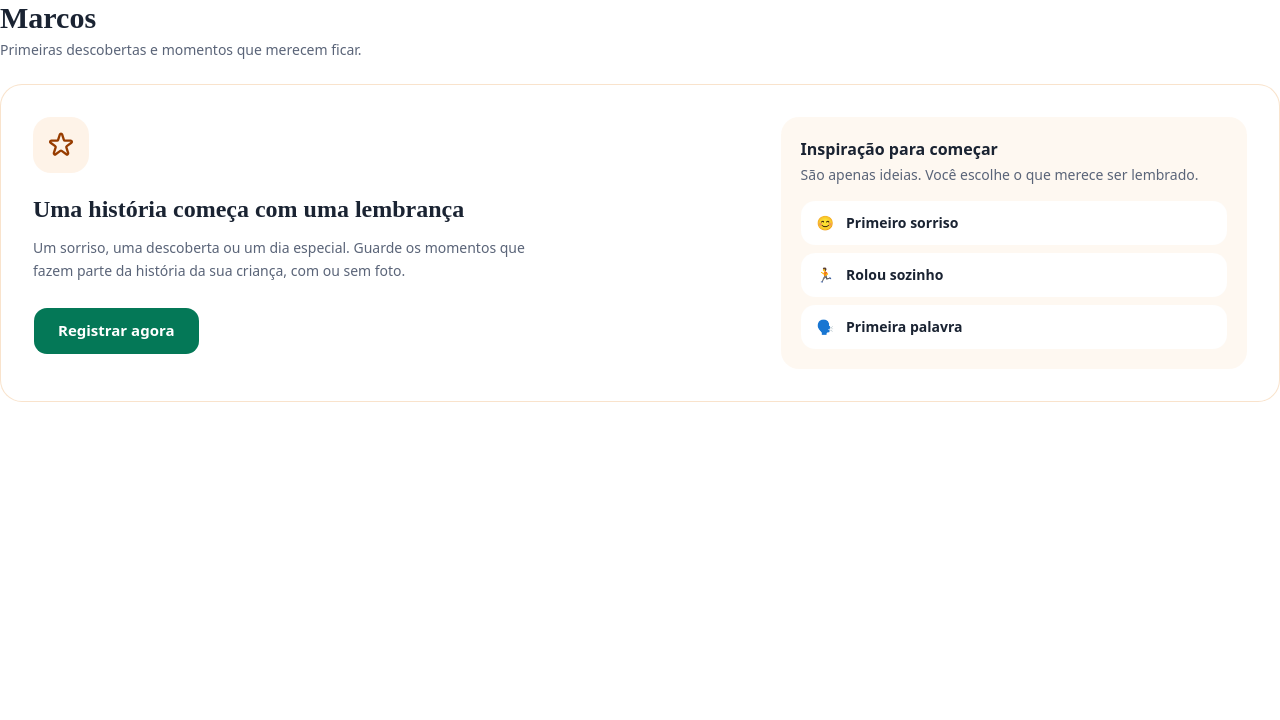
shows the first-memory invitation for an empty selected child
expect the heading "Uma história começa com uma lembrança" is shown: met, box [33, 196, 464, 222]
Click the button "Registrar agora": click(116, 330) [33, 306, 200, 354]
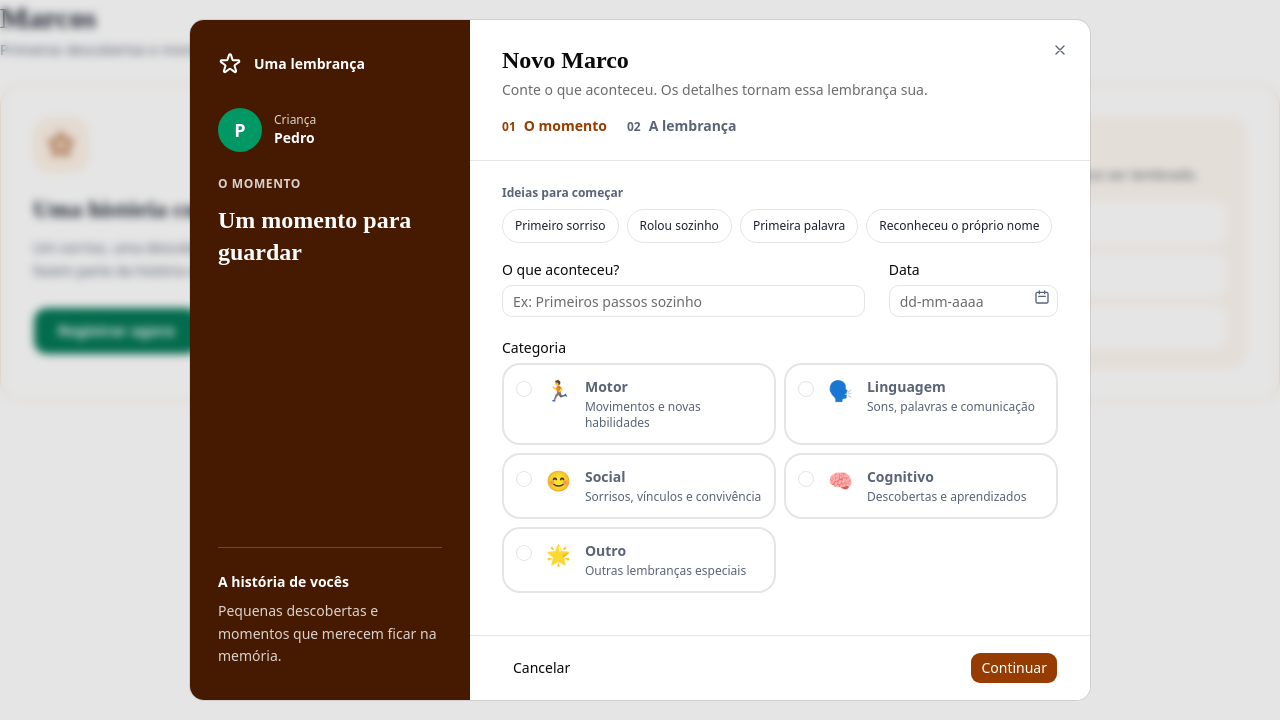
expect the field labelled "O que aconteceu?" is shown: met, box [502, 285, 865, 317]
